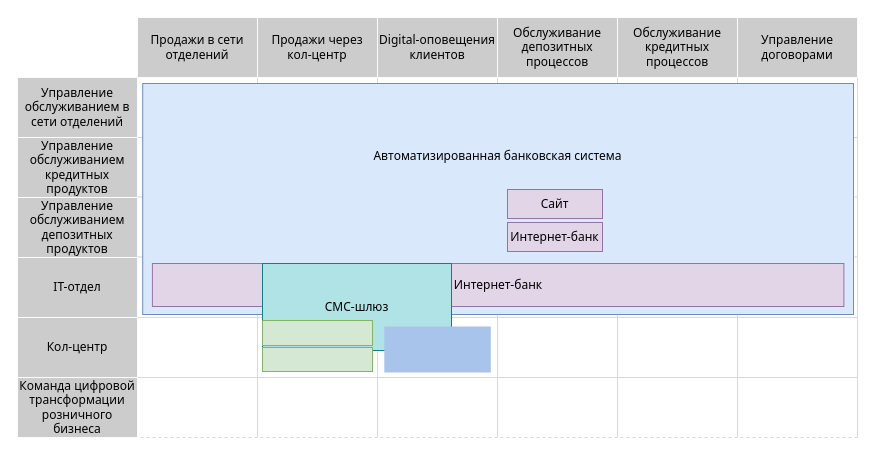
The diagram is 876 pixels wide and 456 high, and some of its shapes have lost their labels. The centre of each missing label's shape, as x and y in pixels:
Система кол-центра: [317,333]
Система партнерского кол-центра: [317,359]
Телеком-оператор: [437,349]
